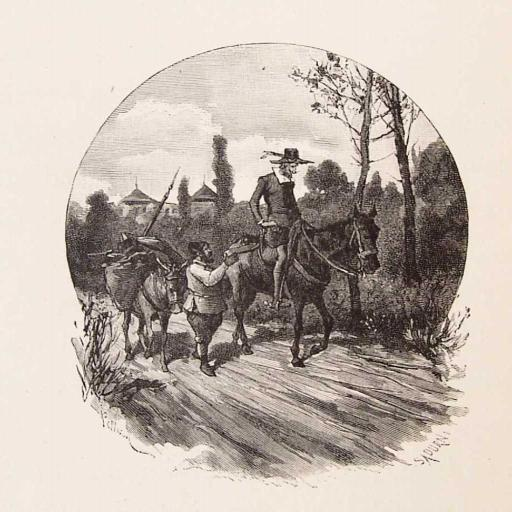Horse: (228, 204, 381, 368), (118, 256, 191, 373)
